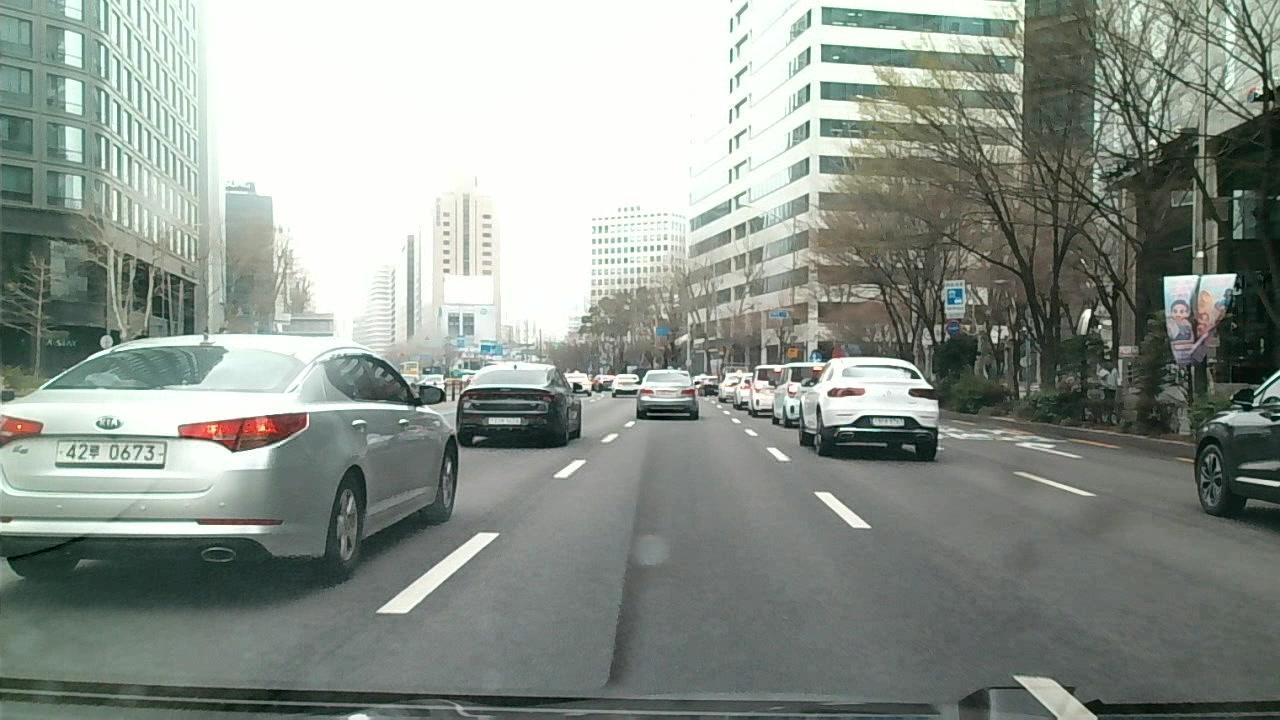banner: (599, 500, 640, 692)
